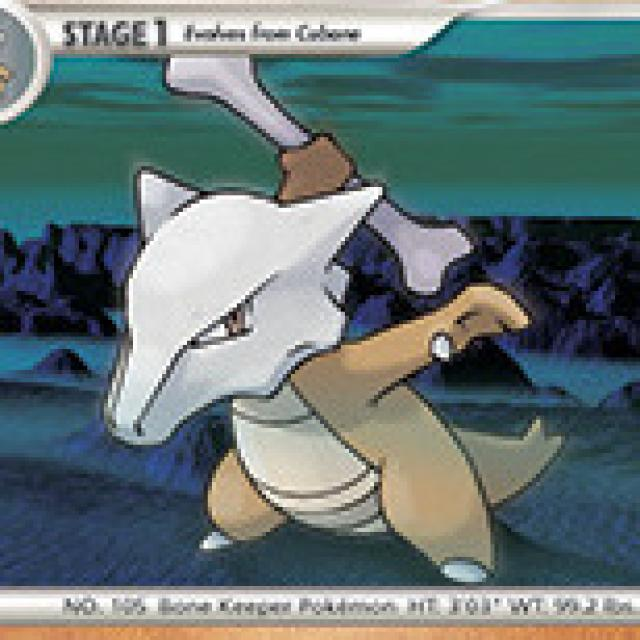Marowak: (113, 148, 500, 582)
